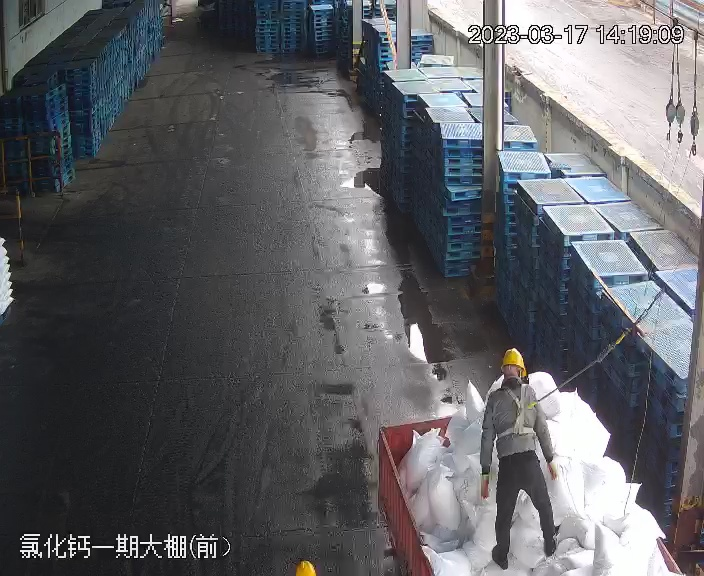belt: (496, 385, 547, 442)
head: (484, 348, 541, 418)
helmet: (499, 348, 529, 374), (294, 560, 317, 575)
people: (479, 349, 562, 571)
